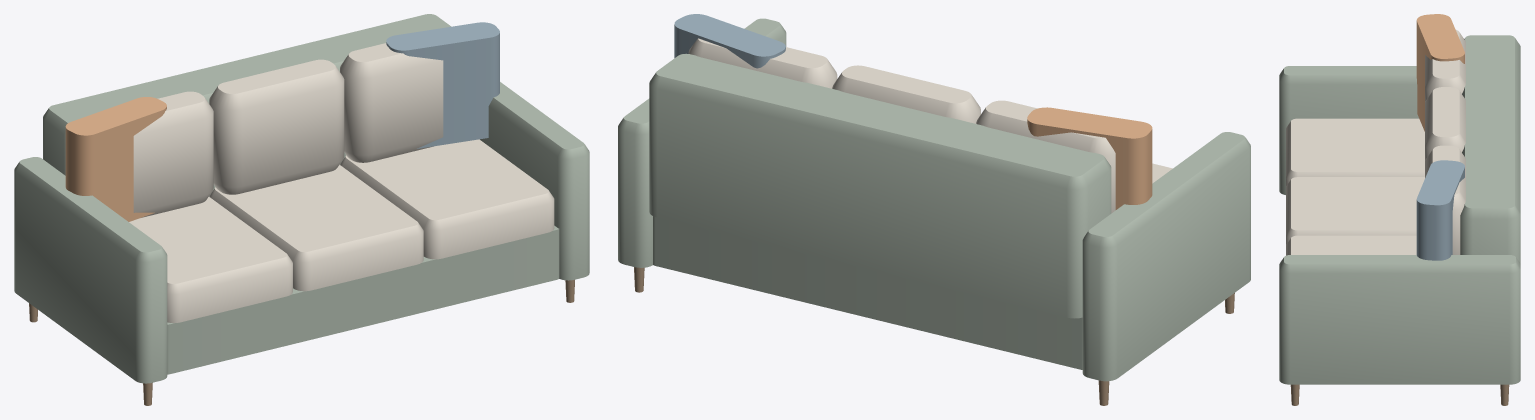
3 renders of one model, left to right at view 1: azimuth 30°, elevation 25°; view 2: azimuth 150°, elevation 25°; view 3: azimuth 270°, elevation 25°, orthographic. The views are drawn at different scales.
Parts seen in each view (by area): view 1: Sofa giường Chiều dài=1800; view 2: Sofa giường Chiều dài=1800; view 3: Sofa giường Chiều dài=1800.
Boxes of the visible parts, <box> form: Sofa giường Chiều dài=1800: <box>14,14,589,405</box>; Sofa giường Chiều dài=1800: <box>618,14,1250,405</box>; Sofa giường Chiều dài=1800: <box>1279,14,1520,405</box>.
Bounding box in the file's own units: 1.8 × 0.83 × 0.907.
